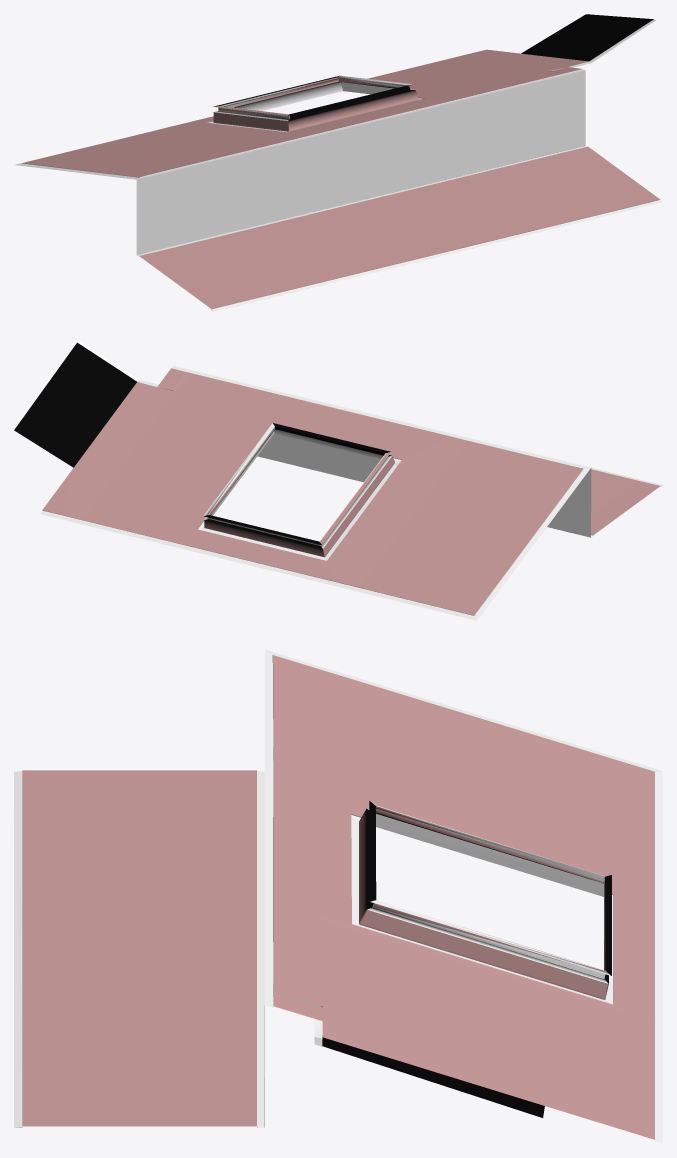
File: SR_SectionCeiling_01.fbx
The picture shows the model from 3 angles, top to bottom: view 1: azimuth 30°, elevation 25°; view 2: azimuth 150°, elevation 25°; view 3: azimuth 270°, elevation 25°; orthographic projection. The views are drawn at different scales.
Visible parts, largest first — view 1: SR_SectionCeiling_01_LOD0, SR_SectionCeiling_01_Col; view 2: SR_SectionCeiling_01_LOD0, SR_SectionCeiling_01_Col; view 3: SR_SectionCeiling_01_LOD0, SR_SectionCeiling_01_Col.
Part boxes in pixels (x1,y1,x2,y2): SR_SectionCeiling_01_LOD0: (22, 14, 660, 310); SR_SectionCeiling_01_Col: (15, 14, 662, 311); SR_SectionCeiling_01_LOD0: (15, 342, 660, 615); SR_SectionCeiling_01_Col: (14, 340, 662, 620); SR_SectionCeiling_01_LOD0: (15, 655, 662, 1143); SR_SectionCeiling_01_Col: (14, 649, 662, 1143).
Size of the model in its own units: 6377 by 1063 by 4126.
